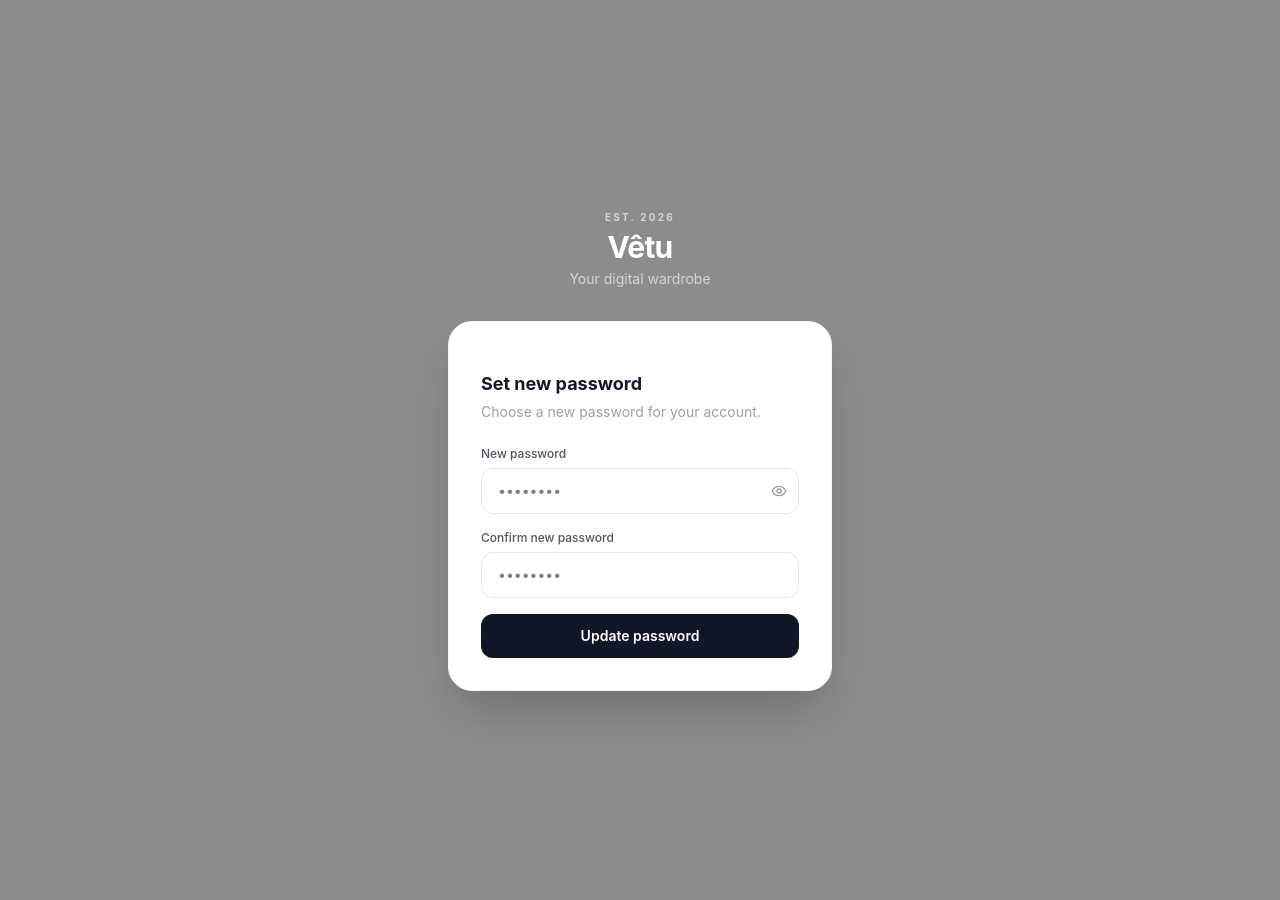
Test: AuthModal — recovery mode client-side validation › shows an error when recovery passwords do not match
In the 1st password field with placeholder "••••••••": (640, 490) [481, 468, 799, 514], type "longpassword1"
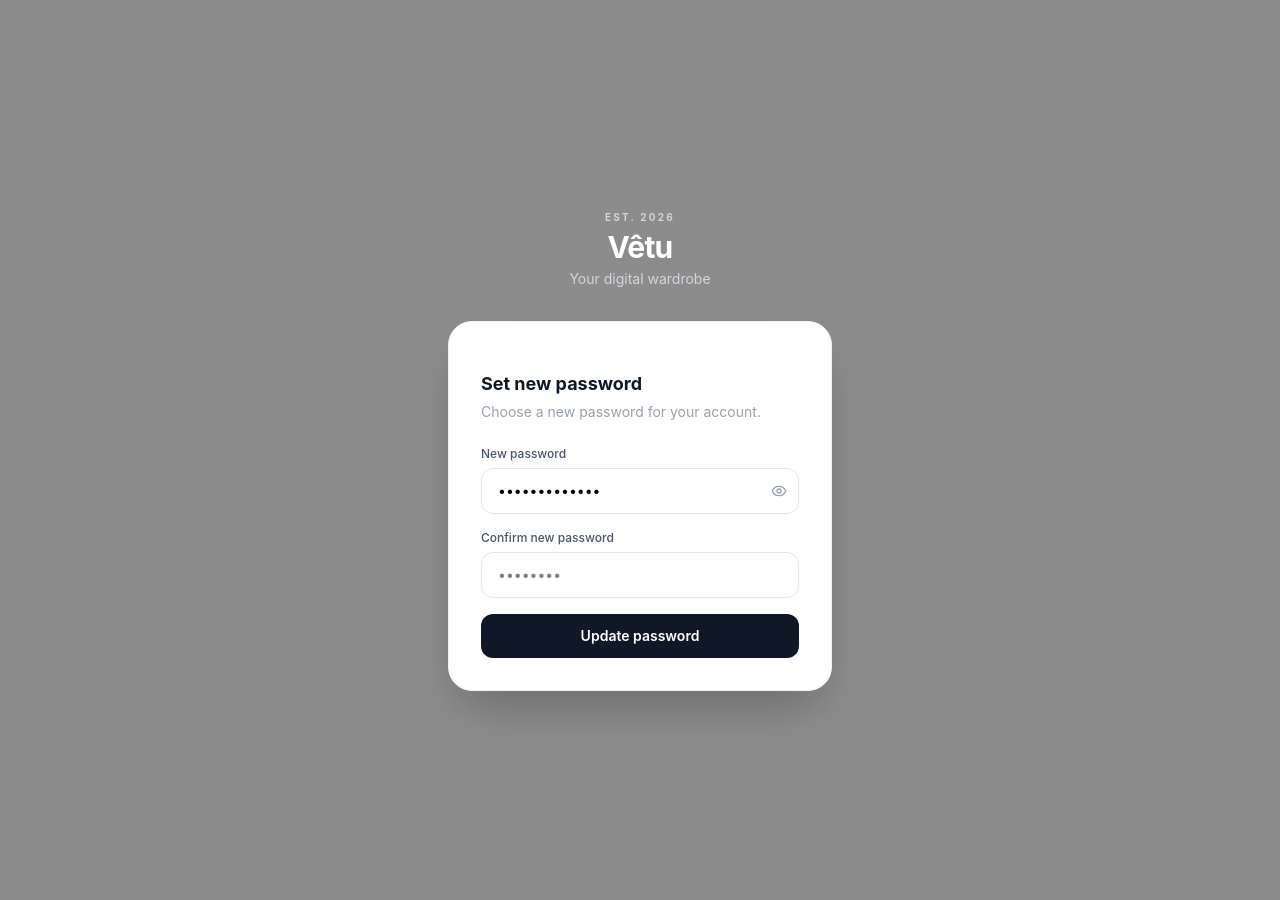
In the password field with placeholder "••••••••": (640, 574) [481, 552, 799, 598], type "longpassword2"
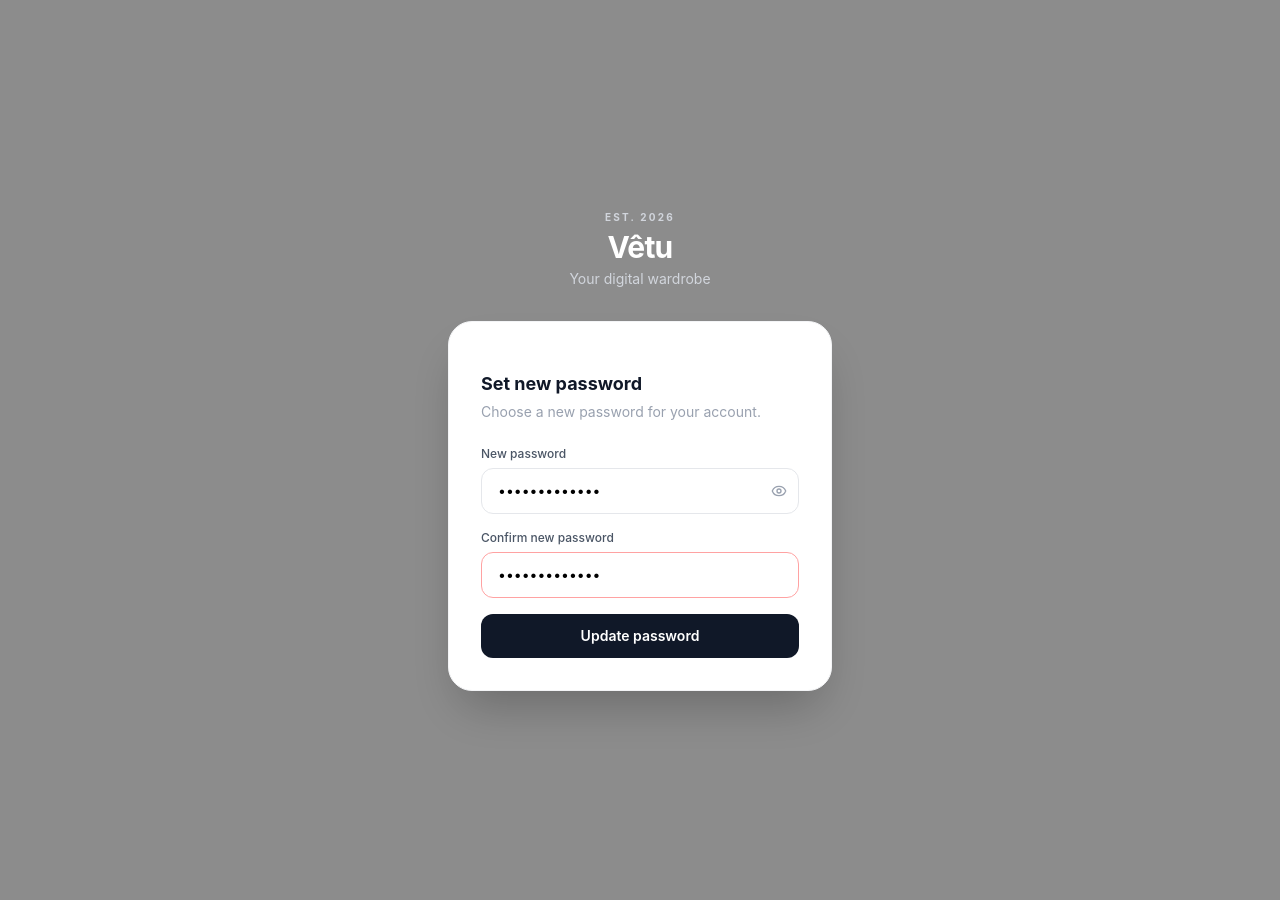
Submit the form with placeholder "••••••••", box [481, 446, 799, 658]
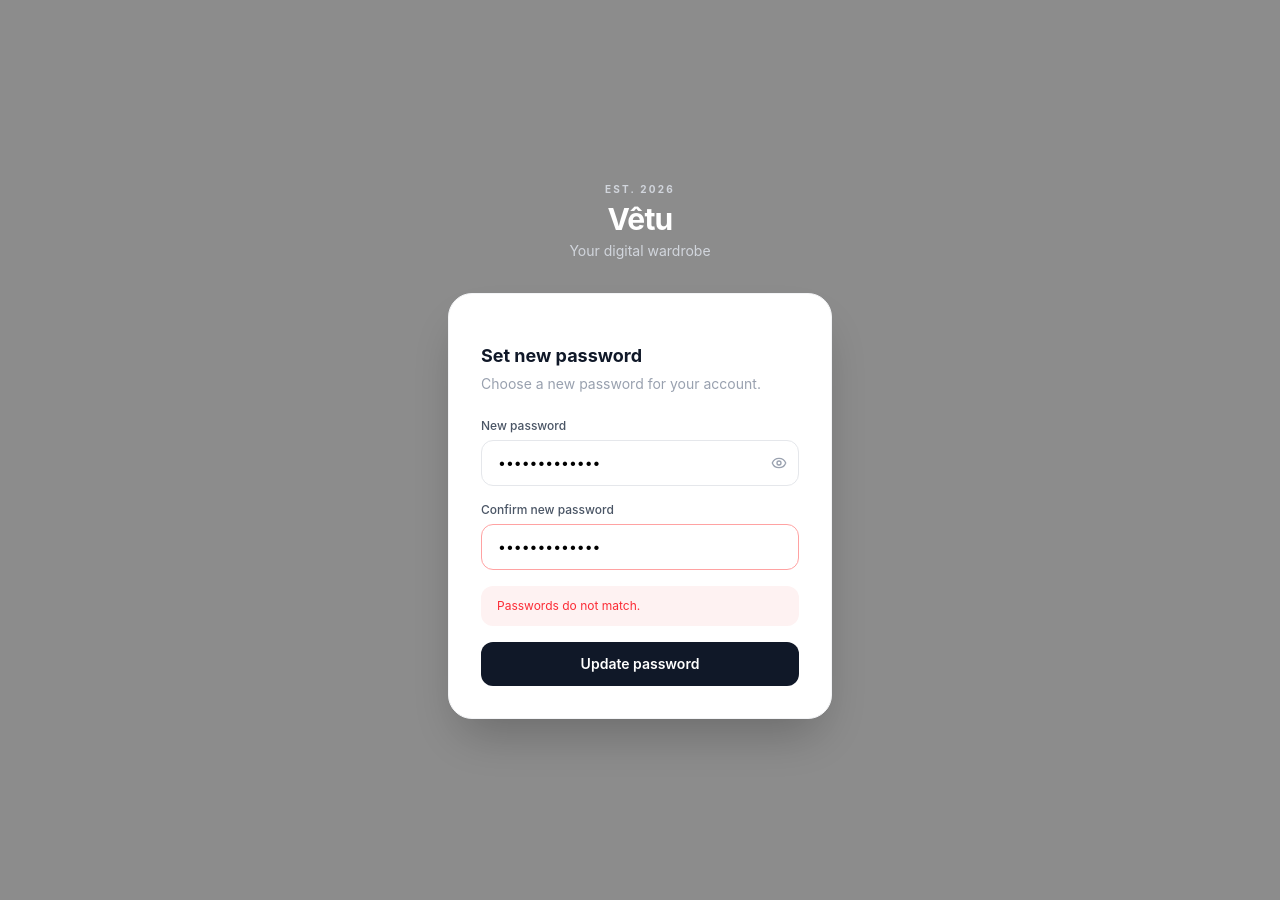
Expected: the text "Passwords do not match." is shown, [481, 586, 799, 626]
